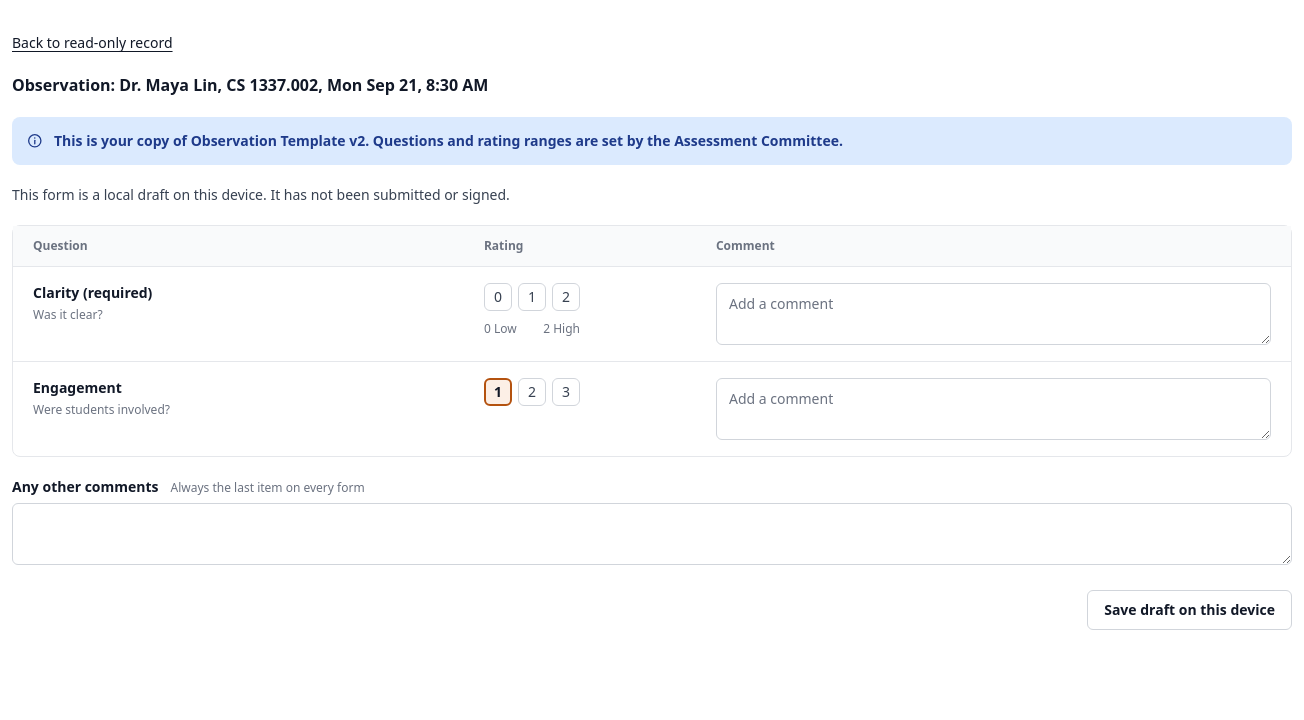
shows the save time only after a local save
Expected: the text "Observation Template v2" is shown, left=54, top=131, right=843, bottom=150
Click the button "Save draft on this device": [1190, 610] box left=1087, top=590, right=1292, bottom=630
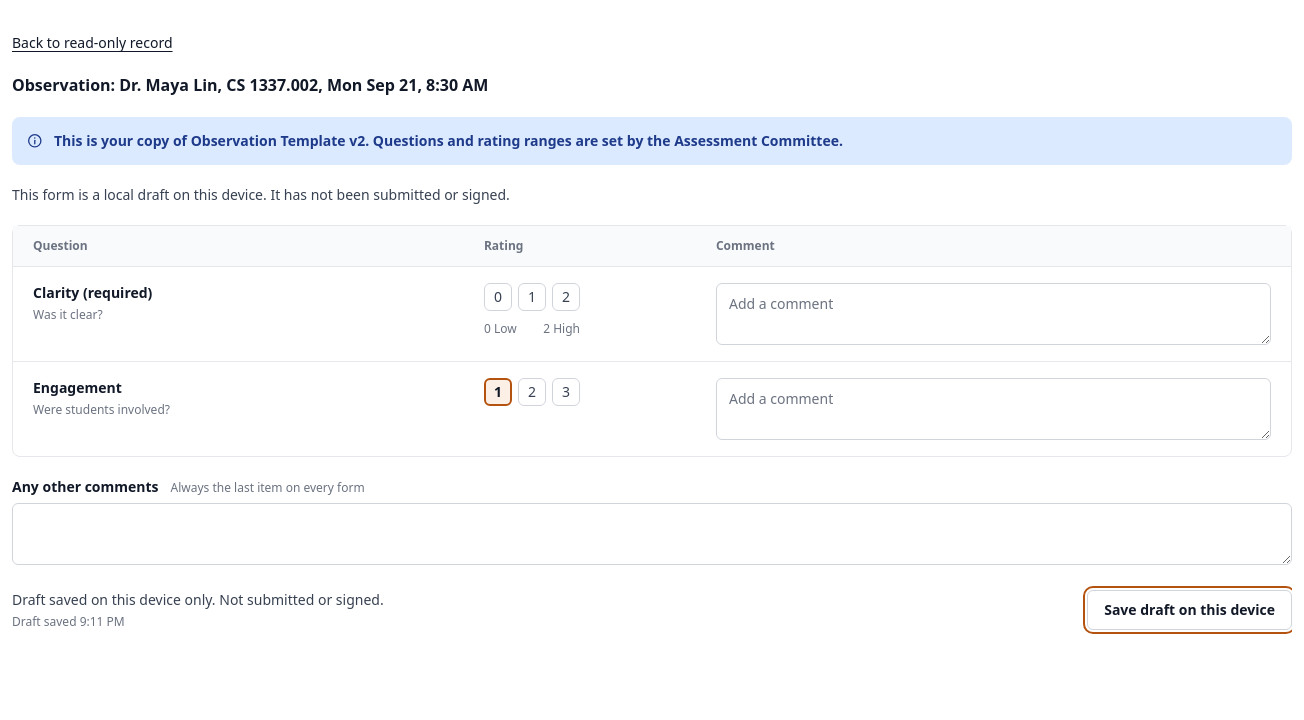
Result: the text "Draft saved 9:11 PM" is shown at left=12, top=613, right=125, bottom=630
